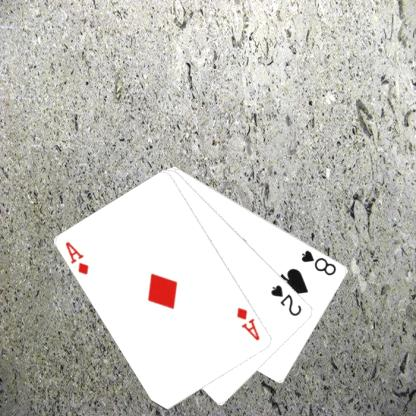2S: (268, 282, 304, 317)
8S: (299, 247, 338, 277)
AD: (234, 304, 262, 342), (63, 239, 91, 276)
